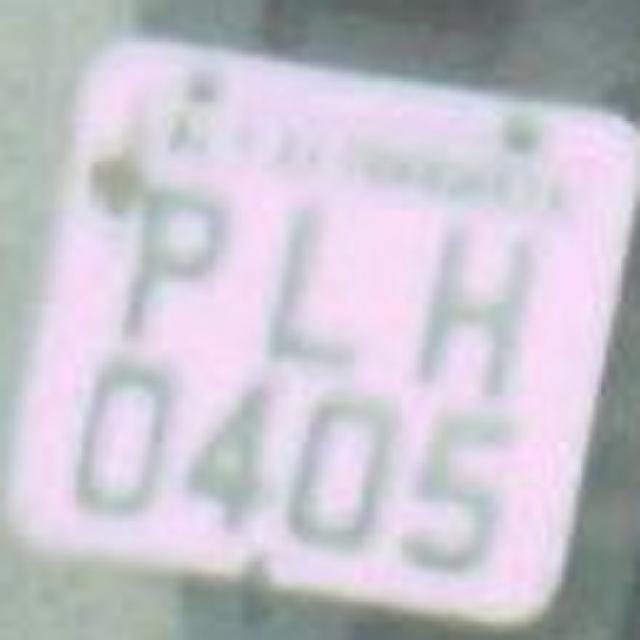0: (48, 335, 200, 540), (272, 364, 420, 568)
4: (172, 352, 296, 556)
5: (400, 392, 532, 568)
H: (400, 200, 540, 395)
P: (108, 180, 232, 355)
